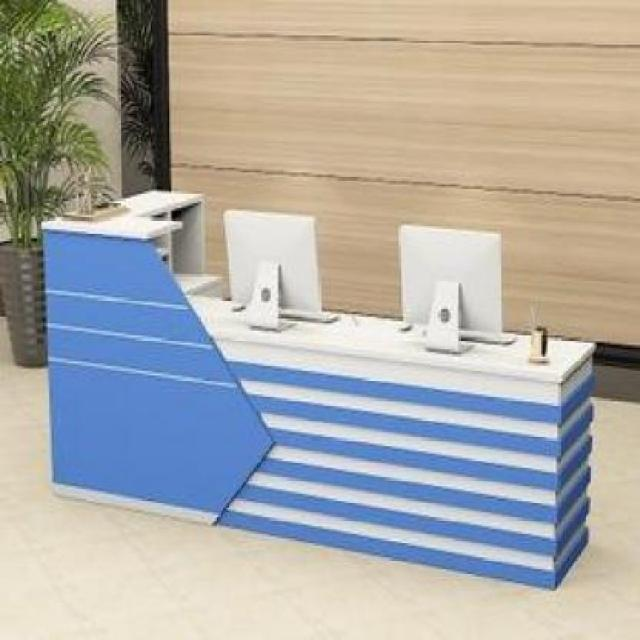frontdesk: (34, 171, 610, 603)
